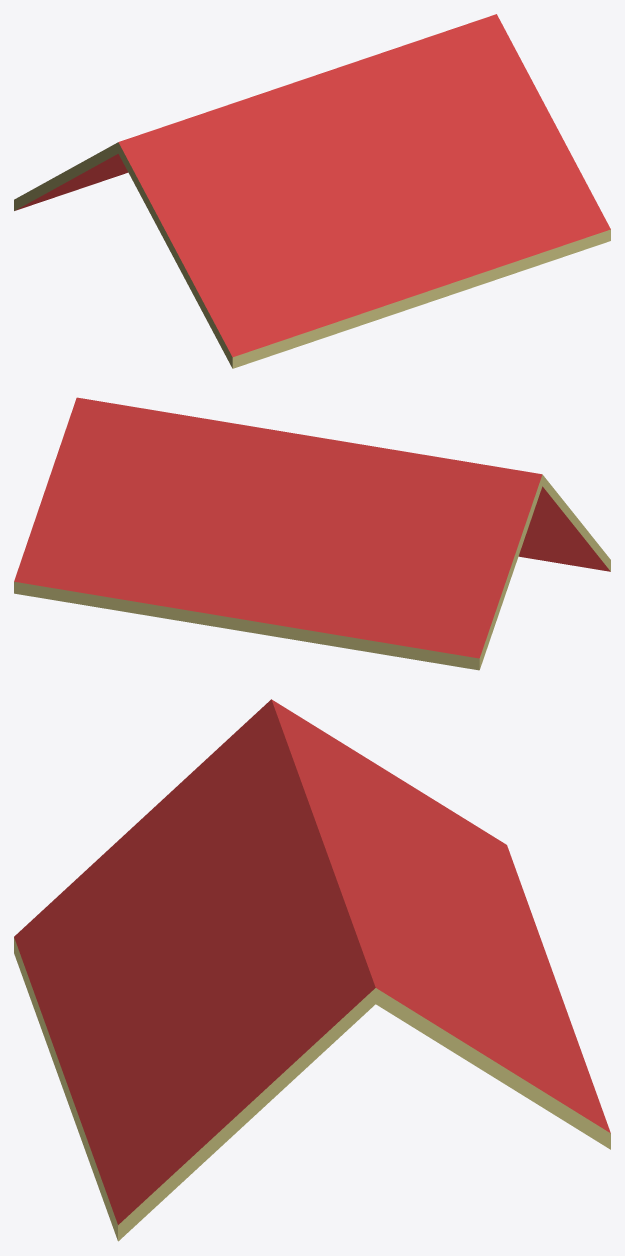
3 views of the same model, one above another, from view 1: azimuth 30°, elevation 25°; view 2: azimuth 150°, elevation 25°; view 3: azimuth 270°, elevation 25° (orthographic). The views are drawn at different scales.
Visible parts, largest first — view 1: group_3, group_4, group_5; view 2: group_3, group_4, group_5; view 3: group_3, group_4.
Boxes of the visible parts, bbox=[...] form: group_3: bbox=[118, 14, 610, 356]; group_4: bbox=[14, 142, 610, 368]; group_5: bbox=[15, 154, 128, 210]; group_3: bbox=[14, 397, 542, 658]; group_4: bbox=[14, 474, 610, 670]; group_5: bbox=[518, 486, 610, 571]; group_3: bbox=[14, 699, 610, 1224]; group_4: bbox=[14, 937, 610, 1241].
Size of the model in its own units: 4.17 by 3.29 by 1.44.
